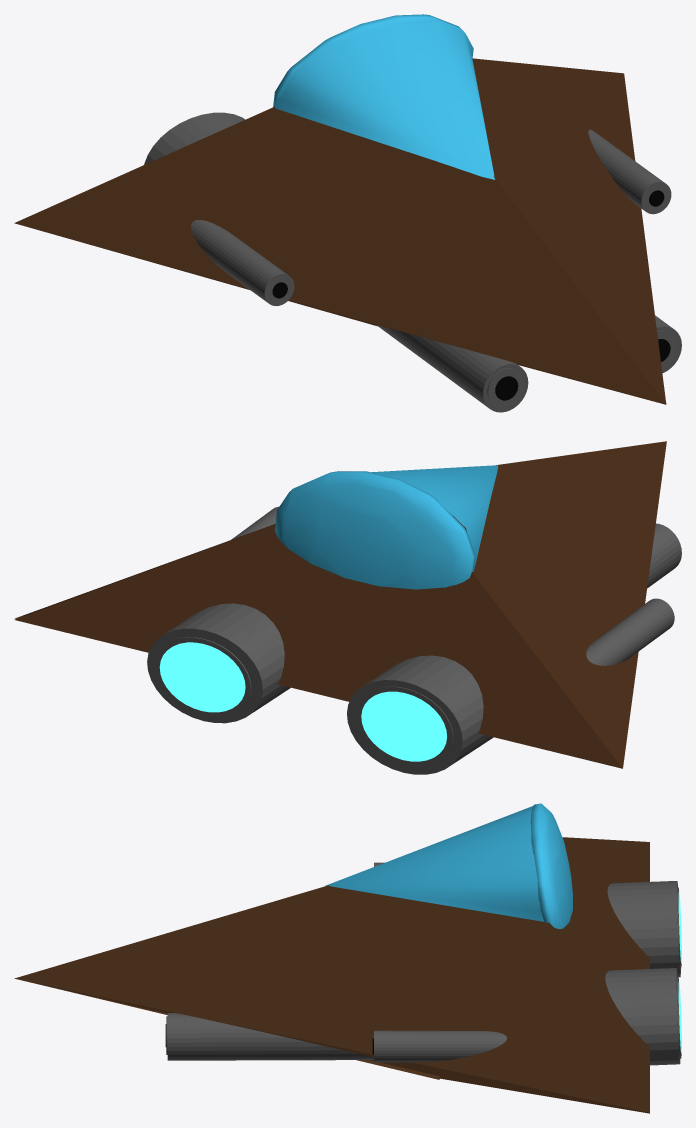
File: nave cafe.fbx
3 views of the same model, one above another, from view 1: azimuth 30°, elevation 25°; view 2: azimuth 150°, elevation 25°; view 3: azimuth 270°, elevation 25° (orthographic). The views are drawn at different scales.
Parts seen in each view (by area): view 1: Plane.001, Cone, Cylinder.005, Cylinder.002, Cylinder.003, Cylinder, Mball, Cylinder.007; view 2: Plane.001, Mball, Cylinder.001, Cylinder, Cylinder.012, Cylinder.013, Cone, Cylinder.002, Cylinder.014, Cylinder.015, Cylinder.005; view 3: Plane.001, Cone, Cylinder.004, Cylinder.001, Cylinder, Mball, Cylinder.003.
Boxes of the visible parts, box(x1,y1,x2,y2) form: Plane.001: box(14, 58, 666, 404); Cone: box(275, 21, 494, 179); Cylinder.005: box(376, 325, 528, 412); Cylinder.002: box(191, 220, 294, 306); Cylinder.003: box(588, 129, 671, 214); Cylinder: box(144, 112, 245, 164); Mball: box(273, 14, 473, 109); Cylinder.007: box(487, 368, 524, 407); Plane.001: box(14, 441, 666, 768); Mball: box(275, 471, 475, 589); Cylinder.001: box(147, 603, 290, 723); Cylinder: box(347, 655, 493, 774); Cylinder.012: box(159, 642, 245, 712); Cylinder.013: box(361, 691, 446, 761); Cone: box(371, 465, 498, 571); Cylinder.002: box(586, 598, 674, 665); Cylinder.014: box(153, 637, 251, 716); Cylinder.015: box(356, 686, 453, 765); Cylinder.005: box(647, 523, 681, 588); Plane.001: box(14, 837, 649, 1113); Cone: box(325, 806, 544, 921); Cylinder.004: box(167, 1013, 373, 1060); Cylinder.001: box(605, 968, 680, 1065); Cylinder: box(607, 881, 680, 977); Mball: box(530, 803, 572, 928); Cylinder.003: box(374, 1030, 506, 1062).
Bounding box in the file's own units: 6.01 × 2.68 × 6.24.
